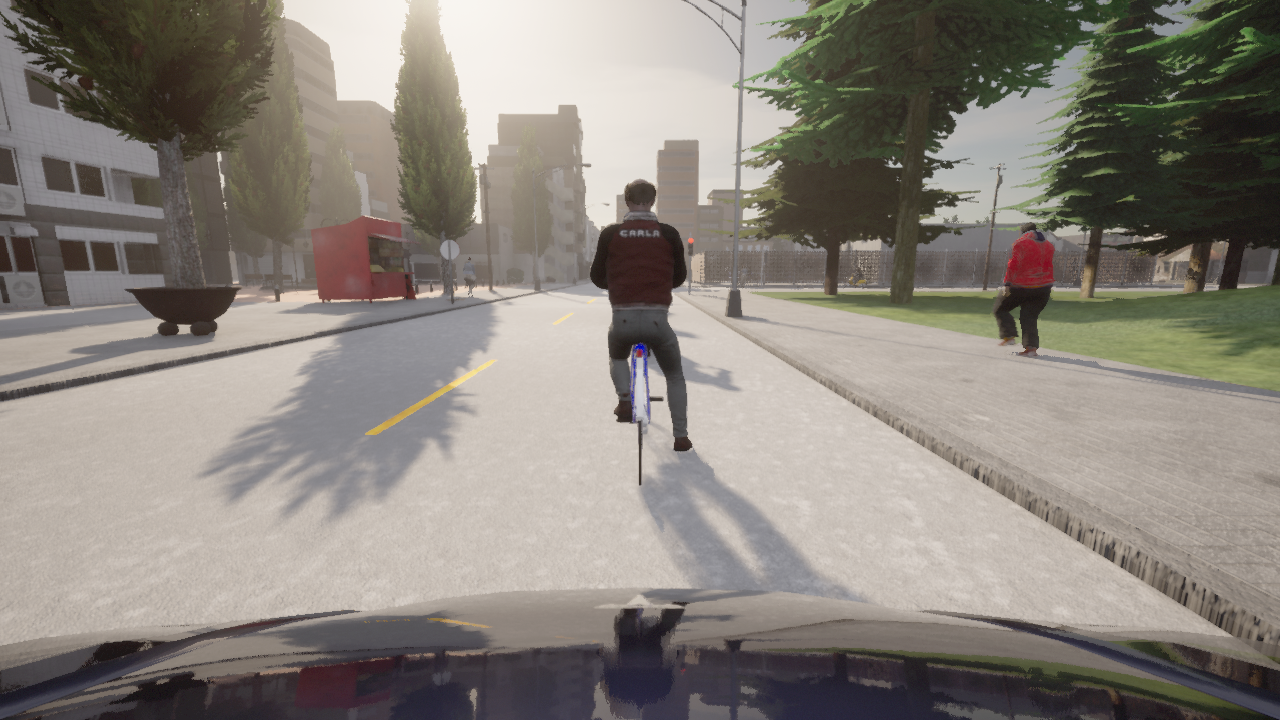cyclist: (0, 588, 1279, 719), (616, 343, 663, 485), (845, 273, 867, 287), (747, 270, 772, 280), (725, 267, 738, 278), (781, 271, 793, 279), (815, 268, 823, 280), (755, 273, 767, 280), (643, 343, 649, 356), (1266, 281, 1270, 285), (848, 270, 850, 272), (1125, 279, 1126, 281), (841, 271, 843, 272)
pedestrian: (992, 221, 1055, 356), (462, 257, 476, 297), (737, 266, 749, 287)
